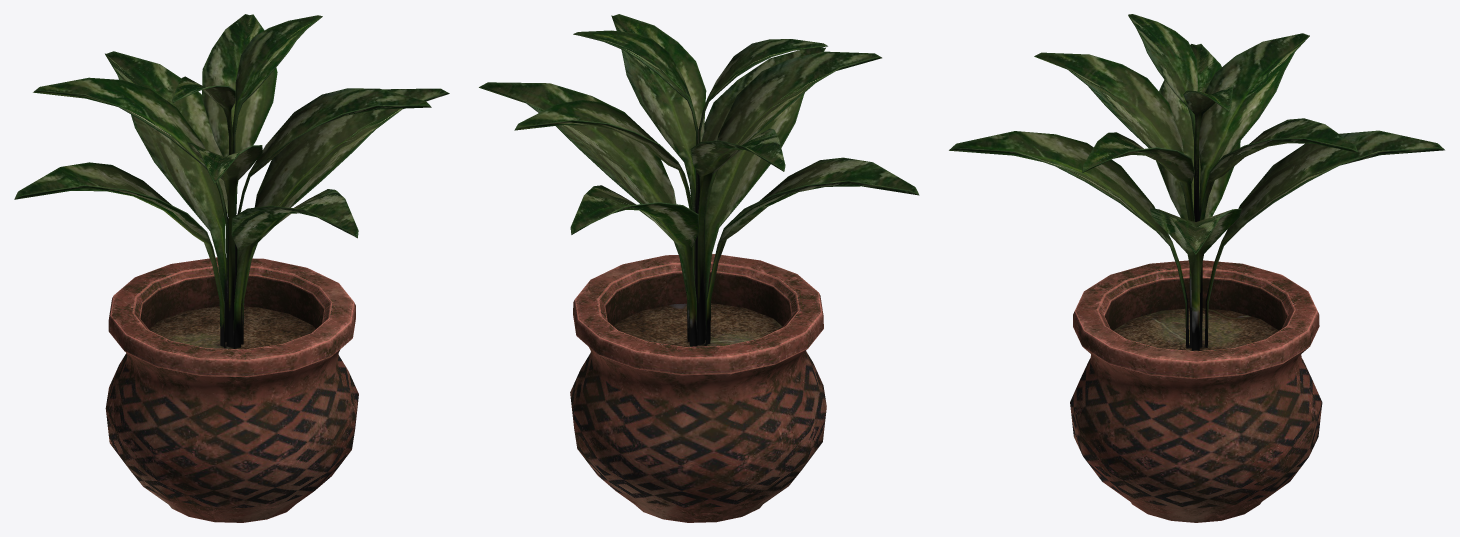
The model's file is plant.fbx.
The picture shows the model from 3 angles, left to right: view 1: azimuth 30°, elevation 25°; view 2: azimuth 150°, elevation 25°; view 3: azimuth 270°, elevation 25°; orthographic projection. The views are drawn at different scales.
Visible parts, largest first — view 1: Plant_1; view 2: Plant_1; view 3: Plant_1.
Part boxes in pixels (x1,y1,x2,y2): Plant_1: (14,14,449,522); Plant_1: (479,14,919,522); Plant_1: (949,14,1444,522).
Size of the model in its own units: 73.49 by 71.41 by 73.5.
